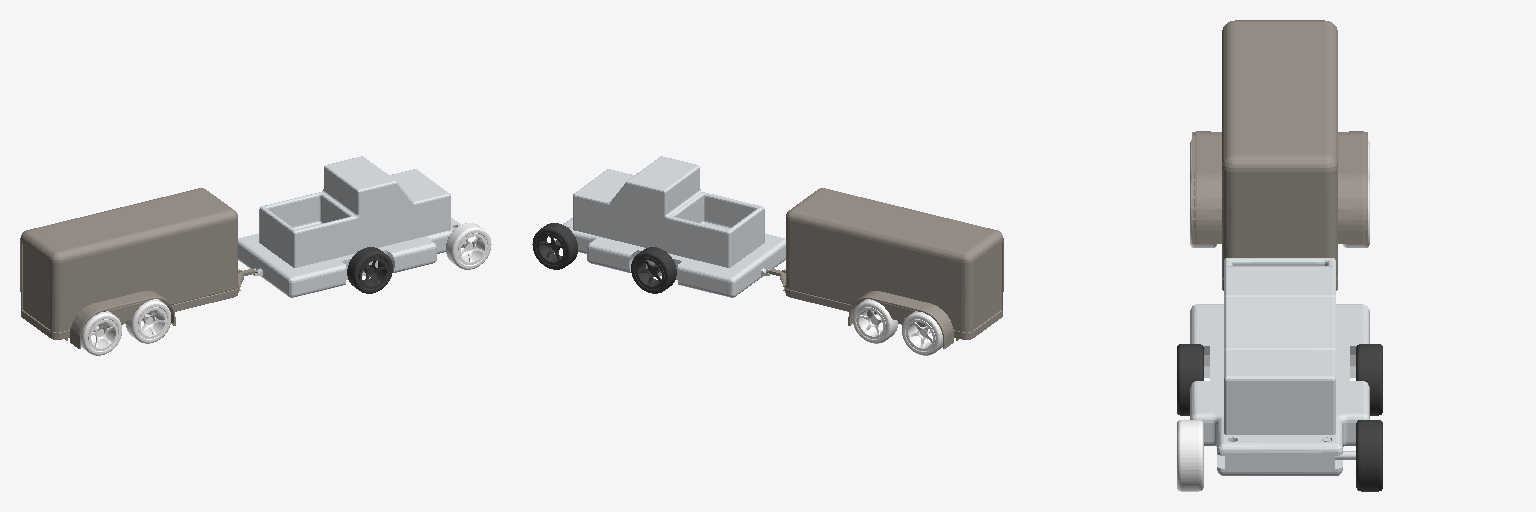
robot.urdf — truck_and_trailer:
<?xml version="1.0" encoding="utf-8"?>
<!-- This URDF was automatically created by SolidWorks to URDF Exporter! Originally created by [author] ([email redacted]) 
     Commit Version: 1.6.0-4-g7f85cfe  Build Version: 1.6.7995.38578
     For more information, please see http://wiki.ros.org/sw_urdf_exporter -->
<robot
  name="truck_and_trailer">
  <link
    name="base_chassis_link">
    <inertial>
      <origin
        xyz="0.0723748257438112 -0.253997083929872 0.155225391142721"
        rpy="0 0 0" />
      <mass
        value="168.080262681343" />
      <inertia
        ixx="2.92523252098037"
        ixy="0.000218120184152512"
        ixz="-0.0366029956572545"
        iyy="11.0073196679447"
        iyz="1.94249868524719E-06"
        izz="13.0370029682555" />
    </inertial>
    <visual>
      <origin
        xyz="0 0 0"
        rpy="0 0 0" />
      <geometry>
        <mesh
          filename="package://truck_and_trailer/meshes/base_chassis_link.STL" />
      </geometry>
      <material
        name="">
        <color
          rgba="0.898039215686275 0.917647058823529 0.929411764705882 1" />
      </material>
    </visual>
    <collision>
      <origin
        xyz="0 0 0"
        rpy="0 0 0" />
      <geometry>
        <mesh
          filename="package://truck_and_trailer/meshes/base_chassis_link.STL" />
      </geometry>
    </collision>
  </link>
  <link
    name="rear_left_wheel_link">
    <inertial>
      <origin
        xyz="-4.98265708137602E-08 -6.00333797118324E-08 -9.36321333682155E-05"
        rpy="0 0 0" />
      <mass
        value="0.784079252834121" />
      <inertia
        ixx="0.00313877186753156"
        ixy="1.13845295642195E-08"
        ixz="3.73865756298406E-09"
        iyy="0.00313877014381181"
        iyz="3.01276205225292E-09"
        izz="0.00532754482672669" />
    </inertial>
    <visual>
      <origin
        xyz="0 0 0"
        rpy="0 0 0" />
      <geometry>
        <mesh
          filename="package://truck_and_trailer/meshes/rear_left_wheel_link.STL" />
      </geometry>
      <material
        name="">
        <color
          rgba="0.298039215686275 0.298039215686275 0.298039215686275 1" />
      </material>
    </visual>
    <collision>
      <origin
        xyz="0 0 0"
        rpy="0 0 0" />
      <geometry>
        <mesh
          filename="package://truck_and_trailer/meshes/rear_left_wheel_link.STL" />
      </geometry>
    </collision>
  </link>
  <joint
    name="rear_left_wheel_joint"
    type="continuous">
    <origin
      xyz="0 0 0.1016"
      rpy="1.5708 0 0" />
    <parent
      link="base_chassis_link" />
    <child
      link="rear_left_wheel_link" />
    <axis
      xyz="0 0 -1" />
    <limit
      effort="30"
      velocity="6" />
  </joint>
  <link
    name="rear_right_wheel_link">
    <inertial>
      <origin
        xyz="-7.25355551178808E-08 -2.94789359034375E-08 9.36317316124827E-05"
        rpy="0 0 0" />
      <mass
        value="0.784079220999345" />
      <inertia
        ixx="0.00313877685784208"
        ixy="9.80107157545839E-09"
        ixz="-4.00030025685091E-09"
        iyy="0.0031387651464266"
        iyz="-2.65238154905669E-09"
        izz="0.00532754482329061" />
    </inertial>
    <visual>
      <origin
        xyz="0 0 0"
        rpy="0 0 0" />
      <geometry>
        <mesh
          filename="package://truck_and_trailer/meshes/rear_right_wheel_link.STL" />
      </geometry>
      <material
        name="">
        <color
          rgba="0.298039215686275 0.298039215686275 0.298039215686275 1" />
      </material>
    </visual>
    <collision>
      <origin
        xyz="0 0 0"
        rpy="0 0 0" />
      <geometry>
        <mesh
          filename="package://truck_and_trailer/meshes/rear_right_wheel_link.STL" />
      </geometry>
    </collision>
  </link>
  <joint
    name="rear_right_wheel_joint"
    type="continuous">
    <origin
      xyz="0 -0.508 0.1016"
      rpy="1.5708 0 0" />
    <parent
      link="base_chassis_link" />
    <child
      link="rear_right_wheel_link" />
    <axis
      xyz="0 0 -1" />
    <limit
      effort="30"
      velocity="6" />
  </joint>
  <link
    name="trailer_n_hitch_link">
    <inertial>
      <origin
        xyz="-0.645634495412604 4.48147048309755E-06 0.198390881545613"
        rpy="0 0 0" />
      <mass
        value="327.423658075201" />
      <inertia
        ixx="6.92542289979725"
        ixy="0.00070660157794961"
        ixz="0.00456753205387379"
        iyy="28.8215763742987"
        iyz="3.35575598957988E-05"
        izz="27.8266803056134" />
    </inertial>
    <visual>
      <origin
        xyz="0 0 0"
        rpy="0 0 0" />
      <geometry>
        <mesh
          filename="package://truck_and_trailer/meshes/trailer_n_hitch_link.STL" />
      </geometry>
      <material
        name="">
        <color
          rgba="0.650980392156863 0.619607843137255 0.588235294117647 1" />
      </material>
    </visual>
    <collision>
      <origin
        xyz="0 0 0"
        rpy="0 0 0" />
      <geometry>
        <mesh
          filename="package://truck_and_trailer/meshes/trailer_n_hitch_link.STL" />
      </geometry>
    </collision>
  </link>
  <joint
    name="trailer_n_hitch_joint"
    type="revolute">
    <origin
      xyz="-0.44616 -0.254 0.1092"
      rpy="0 0 0" />
    <parent
      link="base_chassis_link" />
    <child
      link="trailer_n_hitch_link" />
    <axis
      xyz="0 0 -1" />
    <limit
      lower="-0.5236"
      upper="0.5236"
      effort="0"
      velocity="0" />
  </joint>
  <link
    name="trailer_front_left_wheel_link">
    <inertial>
      <origin
        xyz="-2.87841991353233E-08 7.28140389649745E-08 -9.36317316133639E-05"
        rpy="0 0 0" />
      <mass
        value="0.784079220999348" />
      <inertia
        ixx="0.00313876094299138"
        ixy="-5.40036667180988E-09"
        ixz="8.45046784124209E-10"
        iyy="0.0031387810612773"
        iyz="-4.72476729953416E-09"
        izz="0.00532754482329061" />
    </inertial>
    <visual>
      <origin
        xyz="0 0 0"
        rpy="0 0 0" />
      <geometry>
        <mesh
          filename="package://truck_and_trailer/meshes/trailer_front_left_wheel_link.STL" />
      </geometry>
      <material
        name="">
        <color
          rgba="1 1 1 0.35" />
      </material>
    </visual>
    <collision>
      <origin
        xyz="0 0 0"
        rpy="0 0 0" />
      <geometry>
        <mesh
          filename="package://truck_and_trailer/meshes/trailer_front_left_wheel_link.STL" />
      </geometry>
    </collision>
  </link>
  <joint
    name="trailer_front_left_wheel_joint"
    type="continuous">
    <origin
      xyz="-0.67438 0.2159 -0.0075981"
      rpy="1.5708 0 0" />
    <parent
      link="trailer_n_hitch_link" />
    <child
      link="trailer_front_left_wheel_link" />
    <axis
      xyz="0 0 -1" />
    <limit
      effort="30"
      velocity="6" />
  </joint>
  <link
    name="trailer_rear_left_wheel_link">
    <inertial>
      <origin
        xyz="7.8031524575195E-08 6.44170611296957E-09 -9.36317316133639E-05"
        rpy="0 0 0" />
      <mass
        value="0.78407922099935" />
      <inertia
        ixx="0.00313878236723469"
        ixy="-1.08849047848805E-09"
        ixz="-4.76686750060549E-09"
        iyy="0.00313875963703401"
        iyz="5.60806842823699E-10"
        izz="0.00532754482329062" />
    </inertial>
    <visual>
      <origin
        xyz="0 0 0"
        rpy="0 0 0" />
      <geometry>
        <mesh
          filename="package://truck_and_trailer/meshes/trailer_rear_left_wheel_link.STL" />
      </geometry>
      <material
        name="">
        <color
          rgba="1 1 1 0.35" />
      </material>
    </visual>
    <collision>
      <origin
        xyz="0 0 0"
        rpy="0 0 0" />
      <geometry>
        <mesh
          filename="package://truck_and_trailer/meshes/trailer_rear_left_wheel_link.STL" />
      </geometry>
    </collision>
  </link>
  <joint
    name="trailer_rear_left_wheel_joint"
    type="continuous">
    <origin
      xyz="-0.92838 0.2159 -0.0075981"
      rpy="1.5708 0 0" />
    <parent
      link="trailer_n_hitch_link" />
    <child
      link="trailer_rear_left_wheel_link" />
    <axis
      xyz="0 0 -1" />
    <limit
      effort="30"
      velocity="6" />
  </joint>
  <link
    name="trailer_front_right_wheel_link">
    <inertial>
      <origin
        xyz="-7.77130096940581E-08 -9.54476547798677E-09 9.36317316133596E-05"
        rpy="0 0 0" />
      <mass
        value="0.784079220999347" />
      <inertia
        ixx="0.00313878099612338"
        ixy="5.52000909405695E-09"
        ixz="-4.55353826437736E-09"
        iyy="0.00313876100814531"
        iyz="-1.51750431438814E-09"
        izz="0.00532754482329061" />
    </inertial>
    <visual>
      <origin
        xyz="0 0 0"
        rpy="0 0 0" />
      <geometry>
        <mesh
          filename="package://truck_and_trailer/meshes/trailer_front_right_wheel_link.STL" />
      </geometry>
      <material
        name="">
        <color
          rgba="1 1 1 0.35" />
      </material>
    </visual>
    <collision>
      <origin
        xyz="0 0 0"
        rpy="0 0 0" />
      <geometry>
        <mesh
          filename="package://truck_and_trailer/meshes/trailer_front_right_wheel_link.STL" />
      </geometry>
    </collision>
  </link>
  <joint
    name="trailer_front_right_wheel_joint"
    type="continuous">
    <origin
      xyz="-0.67438 -0.2159 -0.0075981"
      rpy="1.5708 0 0" />
    <parent
      link="trailer_n_hitch_link" />
    <child
      link="trailer_front_right_wheel_link" />
    <axis
      xyz="0 0 -1" />
    <limit
      effort="30"
      velocity="6" />
  </joint>
  <link
    name="trailer_rear_right_wheel_link">
    <inertial>
      <origin
        xyz="-6.14052209080285E-08 4.8577908751124E-08 9.36317316132538E-05"
        rpy="0 0 0" />
      <mass
        value="0.784079220999342" />
      <inertia
        ixx="0.0031387763997412"
        ixy="-1.00606241035101E-08"
        ixz="-4.2796927881452E-09"
        iyy="0.00313876560452747"
        iyz="2.17296105074814E-09"
        izz="0.0053275448232906" />
    </inertial>
    <visual>
      <origin
        xyz="0 0 0"
        rpy="0 0 0" />
      <geometry>
        <mesh
          filename="package://truck_and_trailer/meshes/trailer_rear_right_wheel_link.STL" />
      </geometry>
      <material
        name="">
        <color
          rgba="1 1 1 0.35" />
      </material>
    </visual>
    <collision>
      <origin
        xyz="0 0 0"
        rpy="0 0 0" />
      <geometry>
        <mesh
          filename="package://truck_and_trailer/meshes/trailer_rear_right_wheel_link.STL" />
      </geometry>
    </collision>
  </link>
  <joint
    name="trailer_rear_right_wheel_joint"
    type="continuous">
    <origin
      xyz="-0.92838 -0.2159 -0.0075981"
      rpy="1.5708 0 0" />
    <parent
      link="trailer_n_hitch_link" />
    <child
      link="trailer_rear_right_wheel_link" />
    <axis
      xyz="0 0 -1" />
    <limit
      effort="30"
      velocity="6" />
  </joint>
  <link
    name="front_left_wheel_revolute_link">
    <inertial>
      <origin
        xyz="1.22124532708767E-15 0.0441998322829882 -0.042510111403507"
        rpy="0 0 0" />
      <mass
        value="0.200576881049191" />
      <inertia
        ixx="0.000369683498051665"
        ixy="-1.1118705425367E-18"
        ixz="2.32830724824954E-19"
        iyy="5.18373707811601E-05"
        iyz="6.64392826806987E-05"
        izz="0.000332287662706047" />
    </inertial>
    <visual>
      <origin
        xyz="0 0 0"
        rpy="0 0 0" />
      <geometry>
        <mesh
          filename="package://truck_and_trailer/meshes/front_left_wheel_revolute_link.STL" />
      </geometry>
      <material
        name="">
        <color
          rgba="0.898039215686275 0.917647058823529 0.929411764705882 1" />
      </material>
    </visual>
    <collision>
      <origin
        xyz="0 0 0"
        rpy="0 0 0" />
      <geometry>
        <mesh
          filename="package://truck_and_trailer/meshes/front_left_wheel_revolute_link.STL" />
      </geometry>
    </collision>
  </link>
  <joint
    name="front_left_wheel_revolute_joint"
    type="revolute">
    <origin
      xyz="0.508 -0.12065 0.1516"
      rpy="0 0 0" />
    <parent
      link="base_chassis_link" />
    <child
      link="front_left_wheel_revolute_link" />
    <axis
      xyz="0 0 -1" />
    <limit
      lower="-0.26"
      upper="0.66"
      effort="0"
      velocity="0" />
  </joint>
  <link
    name="front_left_wheel_link">
    <inertial>
      <origin
        xyz="-2.56660643849216E-08 7.39707209373996E-08 -9.36317316135304E-05"
        rpy="0 0 0" />
      <mass
        value="0.784079220999347" />
      <inertia
        ixx="0.0031387605210159"
        ixy="-4.5273030827229E-09"
        ixz="6.43639443948284E-10"
        iyy="0.0031387814832528"
        iyz="-4.75639131646933E-09"
        izz="0.00532754482329061" />
    </inertial>
    <visual>
      <origin
        xyz="0 0 0"
        rpy="0 0 0" />
      <geometry>
        <mesh
          filename="package://truck_and_trailer/meshes/front_left_wheel_link.STL" />
      </geometry>
      <material
        name="">
        <color
          rgba="0.298039215686275 0.298039215686275 0.298039215686275 1" />
      </material>
    </visual>
    <collision>
      <origin
        xyz="0 0 0"
        rpy="0 0 0" />
      <geometry>
        <mesh
          filename="package://truck_and_trailer/meshes/front_left_wheel_link.STL" />
      </geometry>
    </collision>
  </link>
  <joint
    name="front_left_wheel_joint"
    type="continuous">
    <origin
      xyz="0 0.1207 -0.05"
      rpy="1.5708 0 0" />
    <parent
      link="front_left_wheel_revolute_link" />
    <child
      link="front_left_wheel_link" />
    <axis
      xyz="0 0 -1" />
    <limit
      effort="30"
      velocity="6" />
  </joint>
  <link
    name="front_right_wheel_revolute_link">
    <inertial>
      <origin
        xyz="1.66533453693773E-15 -0.0441998322829901 -0.0425101114035069"
        rpy="0 0 0" />
      <mass
        value="0.200576881049191" />
      <inertia
        ixx="0.000369683498051665"
        ixy="-1.78997664883669E-19"
        ixz="-6.01526521430623E-20"
        iyy="5.183737078116E-05"
        iyz="-6.64392826806986E-05"
        izz="0.000332287662706047" />
    </inertial>
    <visual>
      <origin
        xyz="0 0 0"
        rpy="0 0 0" />
      <geometry>
        <mesh
          filename="package://truck_and_trailer/meshes/front_right_wheel_revolute_link.STL" />
      </geometry>
      <material
        name="">
        <color
          rgba="0.898039215686275 0.917647058823529 0.929411764705882 1" />
      </material>
    </visual>
    <collision>
      <origin
        xyz="0 0 0"
        rpy="0 0 0" />
      <geometry>
        <mesh
          filename="package://truck_and_trailer/meshes/front_right_wheel_revolute_link.STL" />
      </geometry>
    </collision>
  </link>
  <joint
    name="front_right_wheel_revolute_joint"
    type="revolute">
    <origin
      xyz="0.508 -0.38735 0.1516"
      rpy="0 0 0" />
    <parent
      link="base_chassis_link" />
    <child
      link="front_right_wheel_revolute_link" />
    <axis
      xyz="0 0 -1" />
    <limit
      lower="-0.66"
      upper="0.26"
      effort="0"
      velocity="0" />
    <safety_controller
      soft_upper_limit="0.243"
      soft_lower_limit="-0.603"
      k_position="100"
      k_velocity="0" />
  </joint>
  <link
    name="front_right_wheel_link">
    <inertial>
      <origin
        xyz="-7.68976591292159E-08 1.47364998537292E-08 9.36317316134194E-05"
        rpy="0 0 0" />
      <mass
        value="0.784079220999348" />
      <inertia
        ixx="0.00313878233921512"
        ixy="-1.3494135471091E-09"
        ixz="-4.79949634266101E-09"
        iyy="0.00313875966505358"
        iyz="-4.86308105339538E-11"
        izz="0.00532754482329062" />
    </inertial>
    <visual>
      <origin
        xyz="0 0 0"
        rpy="0 0 0" />
      <geometry>
        <mesh
          filename="package://truck_and_trailer/meshes/front_right_wheel_link.STL" />
      </geometry>
      <material
        name="">
        <color
          rgba="1 1 1 0.35" />
      </material>
    </visual>
    <collision>
      <origin
        xyz="0 0 0"
        rpy="0 0 0" />
      <geometry>
        <mesh
          filename="package://truck_and_trailer/meshes/front_right_wheel_link.STL" />
      </geometry>
    </collision>
  </link>
  <joint
    name="front_right_wheel_joint"
    type="continuous">
    <origin
      xyz="0 -0.1207 -0.05"
      rpy="1.5708 0 0" />
    <parent
      link="front_right_wheel_revolute_link" />
    <child
      link="front_right_wheel_link" />
    <axis
      xyz="0 0 -1" />
    <limit
      effort="30"
      velocity="6" />
  </joint>
  <link
    name="lidar_mount_link">
    <inertial>
      <origin
        xyz="0 0 0.000254"
        rpy="0 0 0" />
      <mass
        value="0.11487" />
      <inertia
        ixx="8.3781E-05"
        ixy="-4.0887E-21"
        ixz="1.1001E-21"
        iyy="8.3781E-05"
        iyz="4.0733E-22"
        izz="0.00014238" />
    </inertial>
    <visual>
      <origin
        xyz="0 0 0"
        rpy="0 0 0" />
      <geometry>
        <mesh
          filename="package://truck_and_trailer/meshes/lidar_mount_link.STL" />
      </geometry>
      <material
        name="">
        <color
          rgba="1 1 1 1" />
      </material>
    </visual>
    <collision>
      <origin
        xyz="0 0 0"
        rpy="0 0 0" />
      <geometry>
        <mesh
          filename="package://truck_and_trailer/meshes/lidar_mount_link.STL" />
      </geometry>
    </collision>
  </link>
  <joint
    name="lidar_mount_fixed_joint"
    type="fixed">
    <origin
      xyz="0.097672 -0.254 0.4691"
      rpy="0 0 0" />
    <parent
      link="base_chassis_link" />
    <child
      link="lidar_mount_link" />
    <axis
      xyz="0 0 0" />
  </joint>
</robot>

--- What the picture shows (computed from the rendered views, not written in the file) ---
3 views of the same robot in one strip: view 1: azimuth 30°, elevation 25°; view 2: azimuth 150°, elevation 25°; view 3: azimuth 270°, elevation 25° (orthographic).
Model truck_and_trailer with 13 links and 12 joints (3 revolute, 8 continuous, 1 fixed), rooted at base_chassis_link, posed all joints at 0.
Links seen in each view (by area): view 1: trailer_n_hitch_link, base_chassis_link, front_right_wheel_link, rear_right_wheel_link, trailer_front_right_wheel_link, trailer_rear_right_wheel_link; view 2: trailer_n_hitch_link, base_chassis_link, rear_left_wheel_link, front_left_wheel_link, trailer_front_left_wheel_link, trailer_rear_left_wheel_link; view 3: trailer_n_hitch_link, base_chassis_link, front_left_wheel_link, front_right_wheel_link, rear_right_wheel_link, rear_left_wheel_link.
Link boxes in pixels (bbox=[...]): trailer_n_hitch_link: bbox=[20, 188, 257, 348]; base_chassis_link: bbox=[238, 156, 462, 297]; front_right_wheel_link: bbox=[446, 223, 491, 269]; rear_right_wheel_link: bbox=[347, 247, 392, 293]; trailer_front_right_wheel_link: bbox=[126, 299, 170, 343]; trailer_rear_right_wheel_link: bbox=[81, 311, 121, 355]; trailer_n_hitch_link: bbox=[766, 188, 1003, 348]; base_chassis_link: bbox=[563, 156, 785, 297]; rear_left_wheel_link: bbox=[631, 247, 676, 293]; front_left_wheel_link: bbox=[532, 223, 577, 269]; trailer_front_left_wheel_link: bbox=[853, 299, 897, 343]; trailer_rear_left_wheel_link: bbox=[902, 311, 942, 355]; trailer_n_hitch_link: bbox=[1192, 20, 1367, 290]; base_chassis_link: bbox=[1190, 258, 1369, 475]; front_left_wheel_link: bbox=[1356, 420, 1382, 491]; front_right_wheel_link: bbox=[1177, 420, 1203, 491]; rear_right_wheel_link: bbox=[1177, 344, 1203, 415]; rear_left_wheel_link: bbox=[1356, 344, 1382, 415].
Bounding box of the posed robot: 2.19 × 0.5843 × 0.5016 m (x, y, z).
Meshes: 13 distinct files referenced, 11 mesh visuals loaded (11 binary STL); not drawn: 2 (reference not matched to a file when rendering).